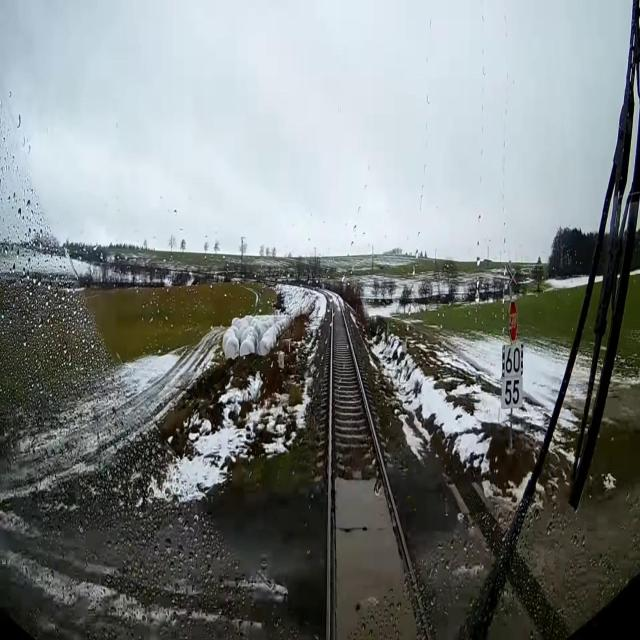rail-track: (331, 295, 427, 639)
